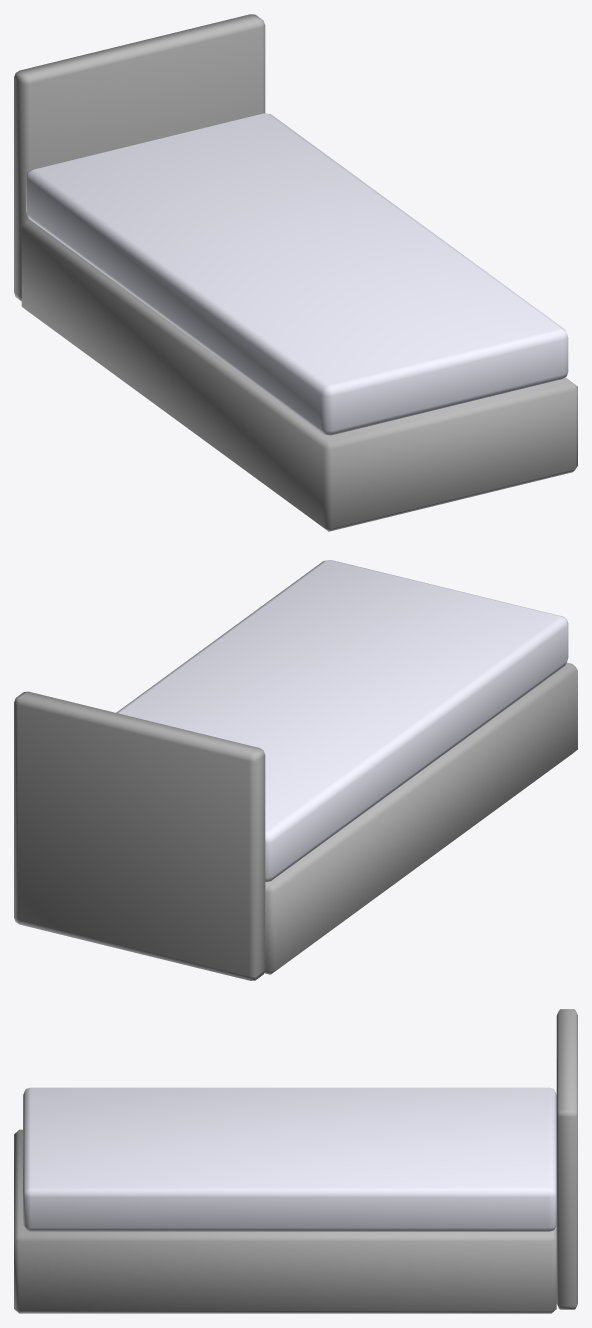
Rendered from Prop_Bed_11.fbx.
3 renders of one model, top to bottom at view 1: azimuth 30°, elevation 25°; view 2: azimuth 150°, elevation 25°; view 3: azimuth 270°, elevation 25°, orthographic. The views are drawn at different scales.
Parts seen in each view (by area): view 1: Prop_Bed_11; view 2: Prop_Bed_11; view 3: Prop_Bed_11.
Part boxes in pixels (x1,y1,x2,y2): Prop_Bed_11: (14, 14, 577, 531); Prop_Bed_11: (14, 560, 577, 980); Prop_Bed_11: (14, 1009, 577, 1313).
Size of the model in its own units: 100 by 85.85 by 218.
